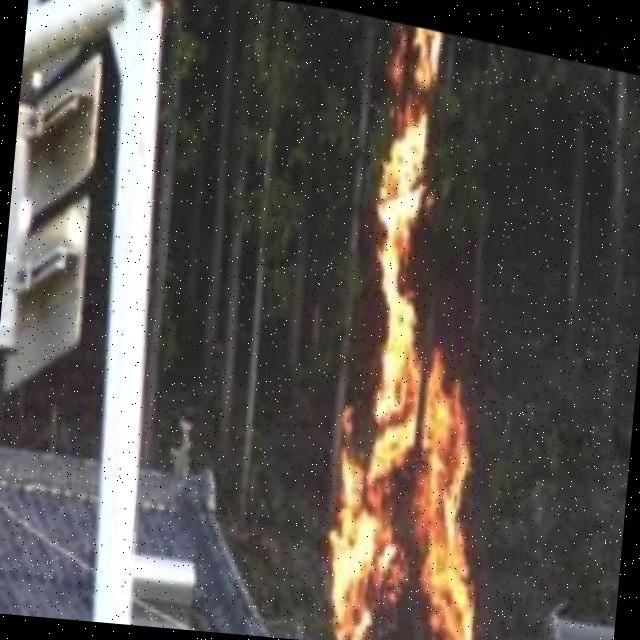fire: (273, 5, 559, 640)
